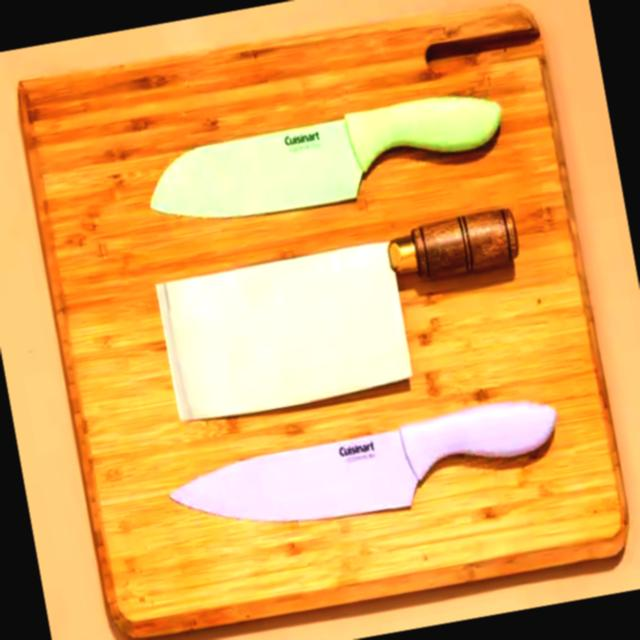cleaver: (142, 197, 544, 433)
